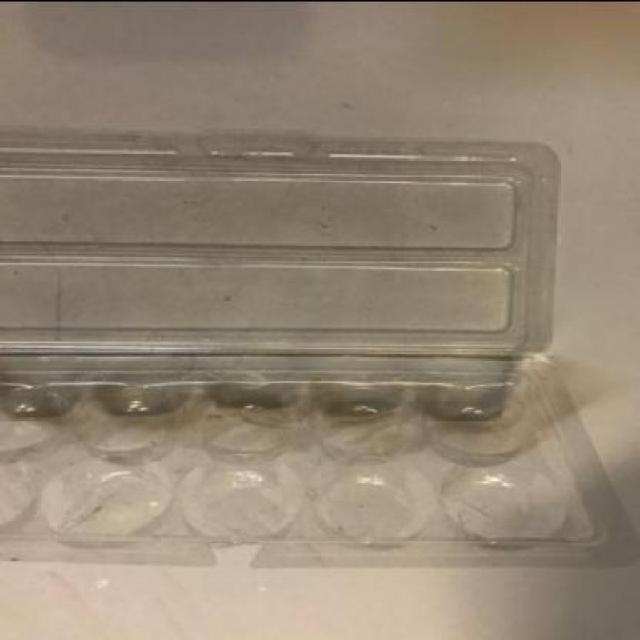PLASTIC: (0, 135, 628, 567), (0, 137, 558, 359)
